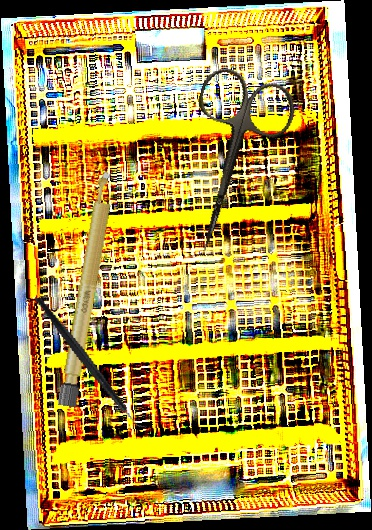Chopper: (34, 276, 151, 449)
Iris Scissors: (156, 62, 302, 265)
Scalpel Handle: (57, 170, 119, 408)
